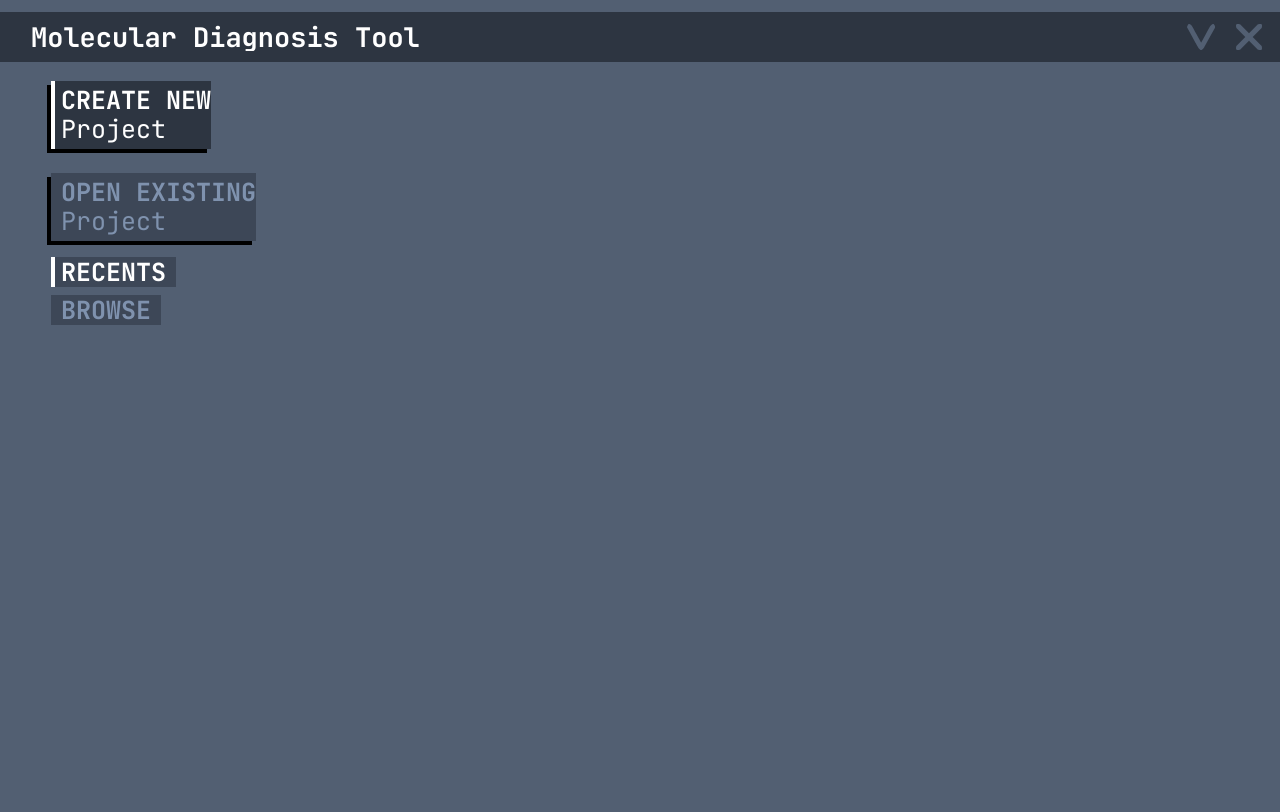
Test: progress belongs to exactly one run › ignores a notification carrying a different run token
Click the button "Open Existing Project": (154, 207) x1=51 y1=173 x2=256 y2=241
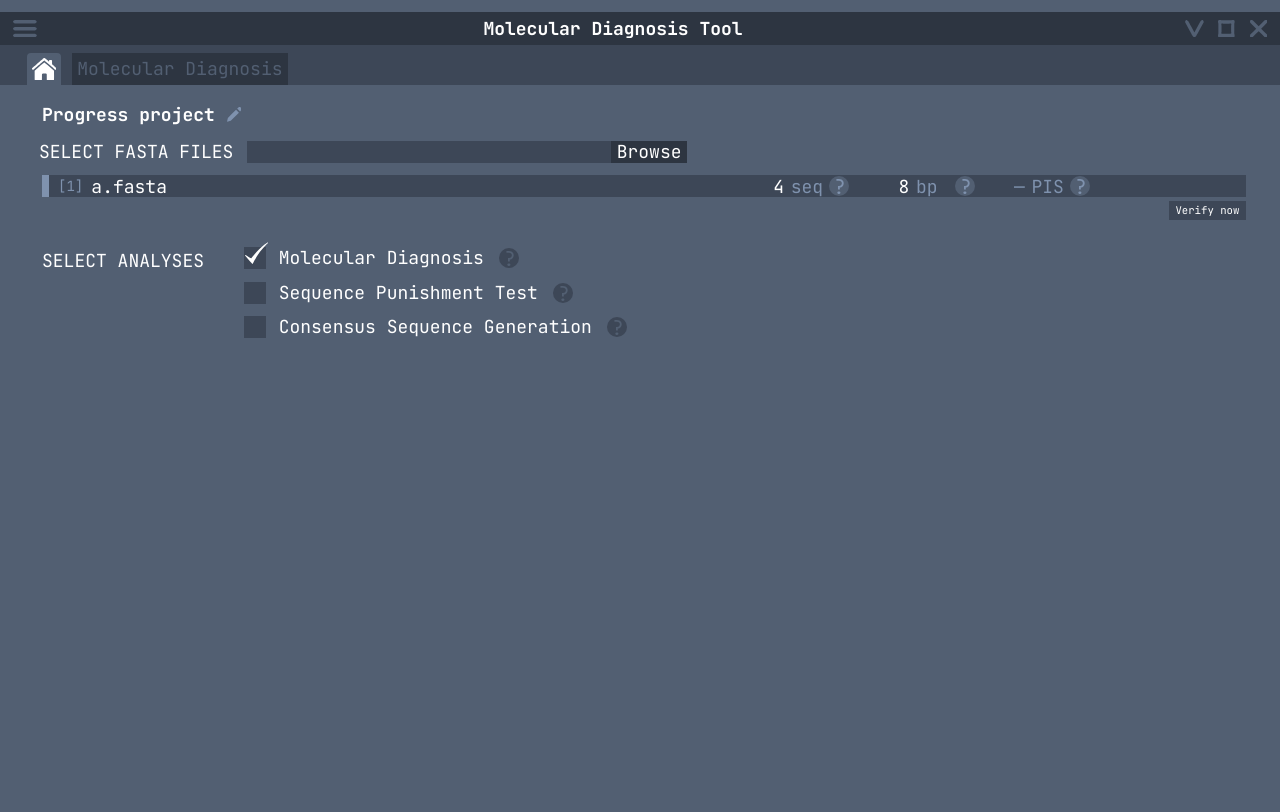
Check: the heading "Progress project" is shown, box x1=42 y1=105 x2=215 y2=125
Click the tab "Molecular Diagnosis": (180, 69) x1=72 y1=53 x2=288 y2=85
Wait 400 ms
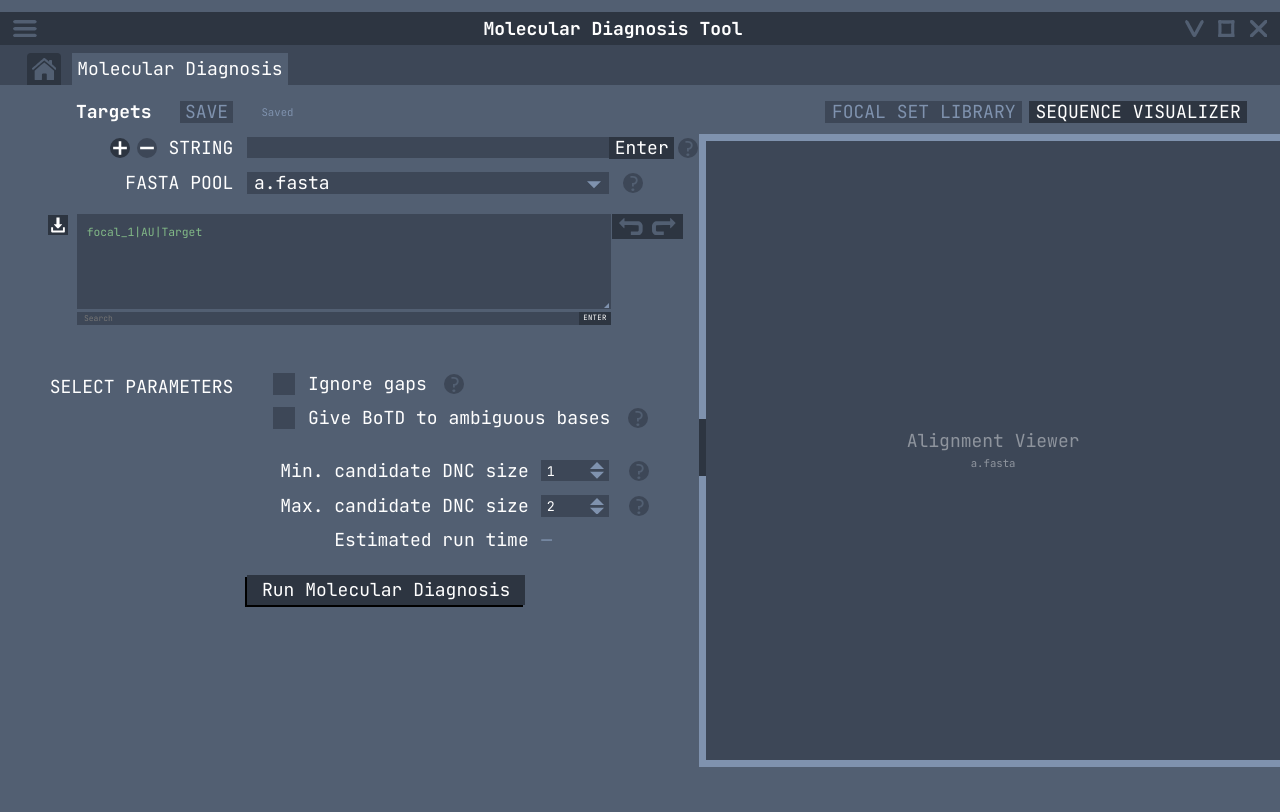
Check: the button "Run Molecular Diagnosis" is enabled
Click the button "Run Molecular Diagnosis": (386, 590) x1=247 y1=575 x2=525 y2=605
Wait 400 ms
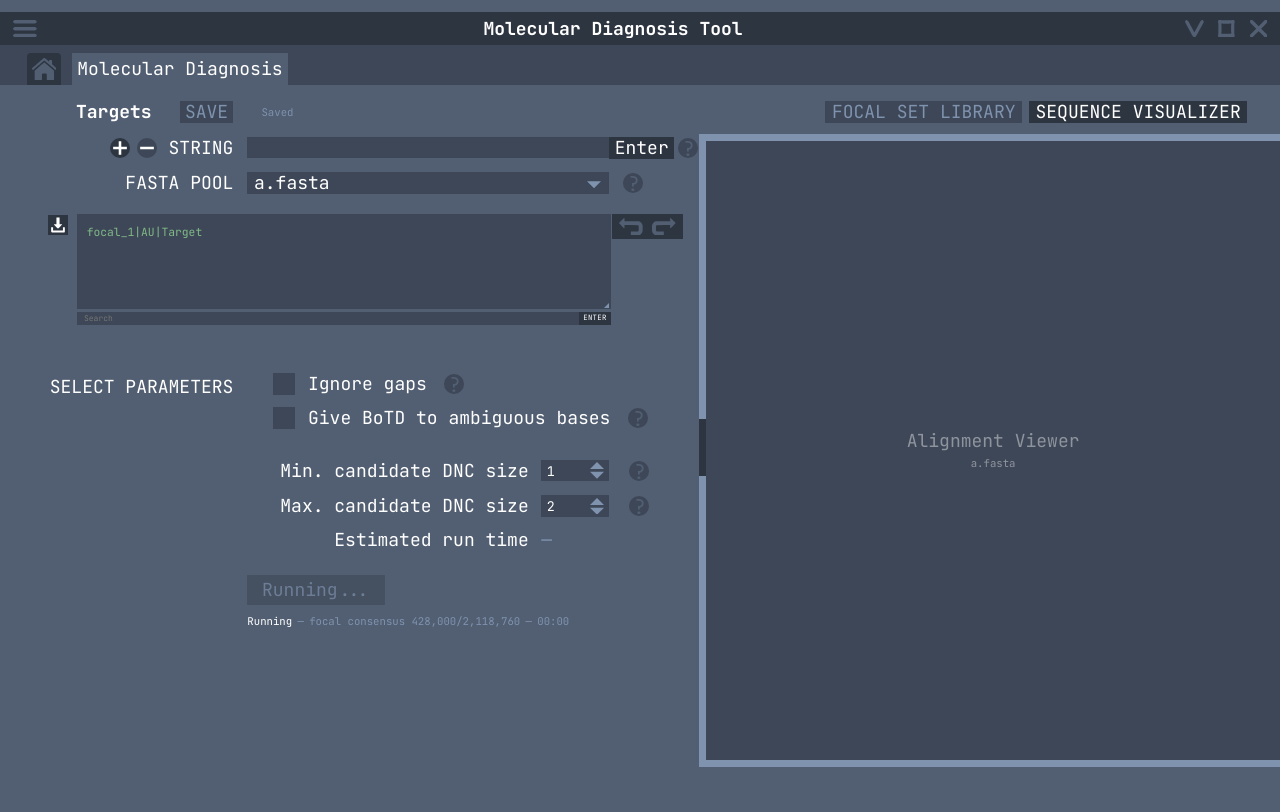
Check: the text "Running" is shown, box x1=247 y1=615 x2=292 y2=629
Check: the message with class "run-panel__status--running" shows "focal consensus", box x1=309 y1=614 x2=520 y2=628
